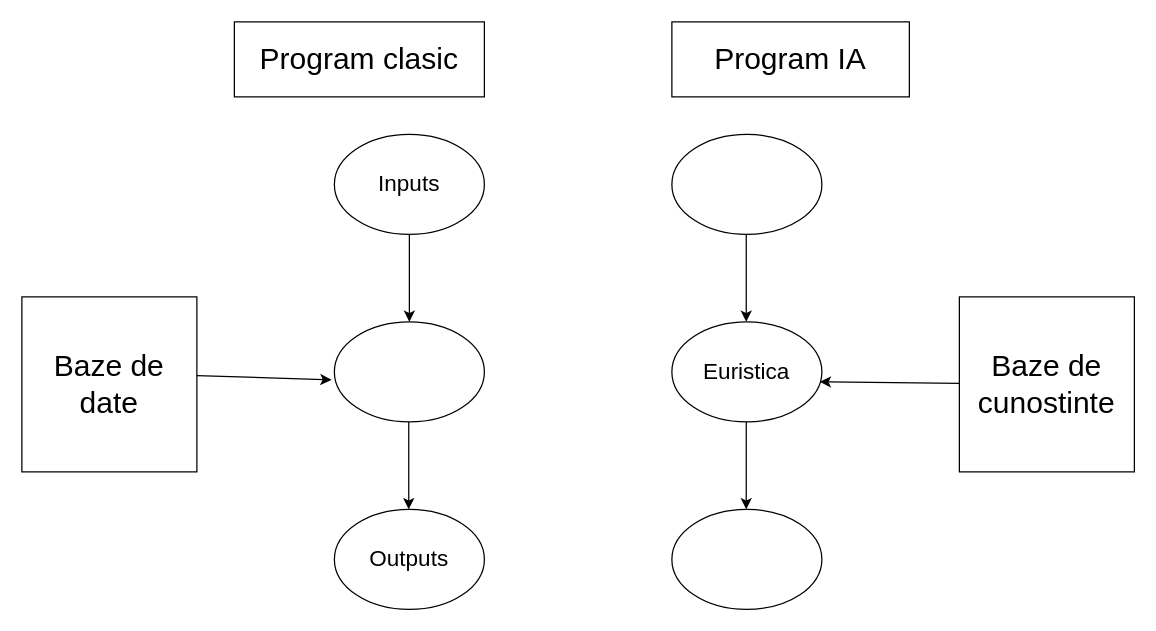
This 1156x631 diagram has some shape labels left out. The shapes that lost their labels are listed below. From the top down, each one's centre as x and y in pixels, then its label:
At (746,183): "Problema".
At (408,371): "Algoritm".
At (746,558): "Solutions".
